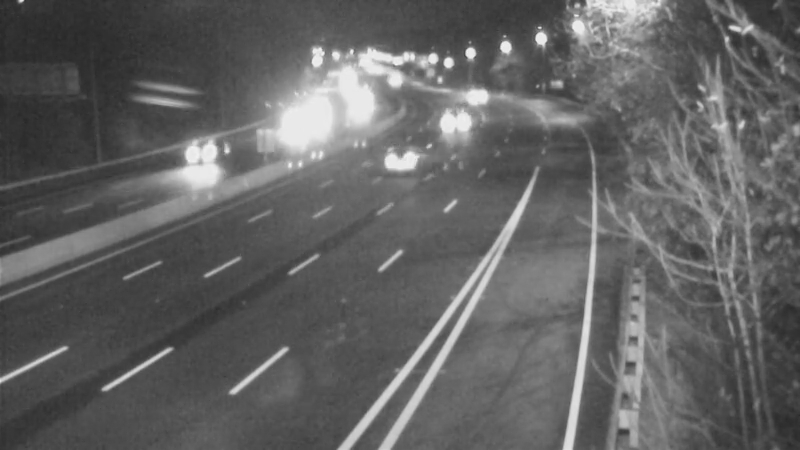vehicle: (359, 118, 439, 198), (154, 114, 234, 194), (442, 70, 492, 120), (429, 94, 479, 144), (337, 82, 387, 132)
